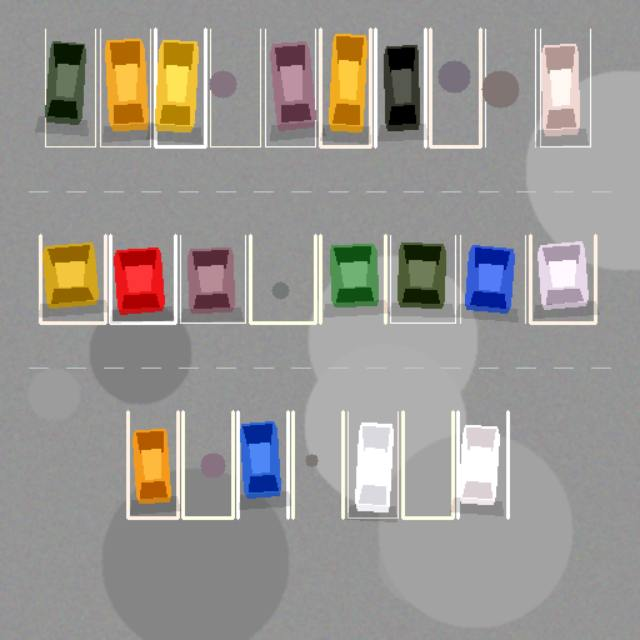space-empty: (210, 29, 260, 146), (430, 29, 480, 146), (485, 29, 535, 146), (250, 235, 315, 323), (183, 411, 233, 518), (293, 411, 343, 518), (403, 411, 453, 518)
space-occupied: (45, 29, 95, 146), (100, 29, 150, 146), (155, 29, 205, 146), (265, 29, 315, 146), (320, 29, 370, 146), (375, 29, 425, 146), (540, 29, 590, 146), (40, 235, 105, 323), (110, 235, 175, 323), (180, 235, 245, 323), (320, 235, 385, 323), (390, 235, 455, 323), (460, 235, 525, 323), (530, 235, 595, 323), (127, 411, 177, 518), (237, 411, 287, 518), (347, 411, 397, 518), (457, 411, 507, 518)
